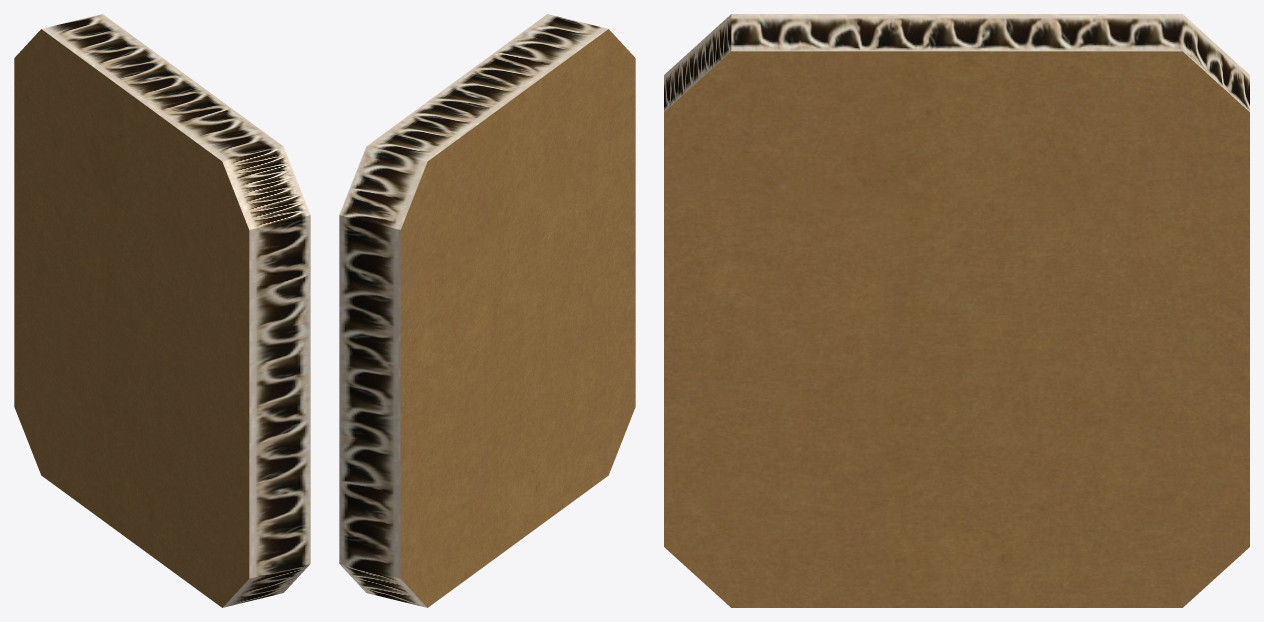
The model's file is CardBoardProjectile.FBX.
The picture shows the model from 3 angles, left to right: view 1: azimuth 30°, elevation 25°; view 2: azimuth 150°, elevation 25°; view 3: azimuth 270°, elevation 25°; orthographic projection. The views are drawn at different scales.
Parts seen in each view (by area): view 1: ProjectileBox; view 2: ProjectileBox; view 3: ProjectileBox.
Part boxes in pixels (x1,y1,x2,y2): ProjectileBox: (14, 14, 310, 607); ProjectileBox: (339, 14, 635, 607); ProjectileBox: (664, 14, 1249, 607).
Size of the model in its own units: 6.37 by 44.28 by 42.23.
